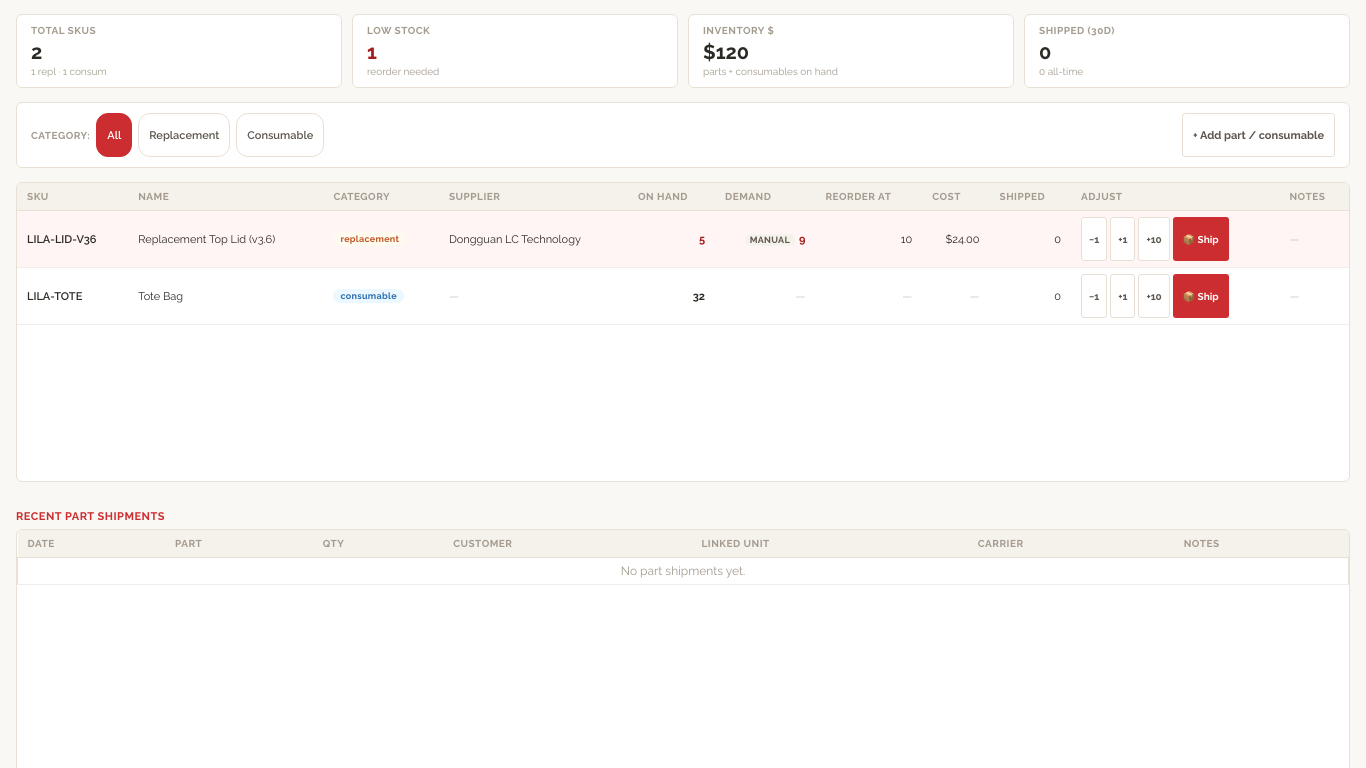
it: Stock › Parts — adding a SKU › refuses a negative on-hand count
This screenshot has width=1366, height=768.
Click the button "+ Add part / consumable" at (1258,135), box [1182,113,1335,157]
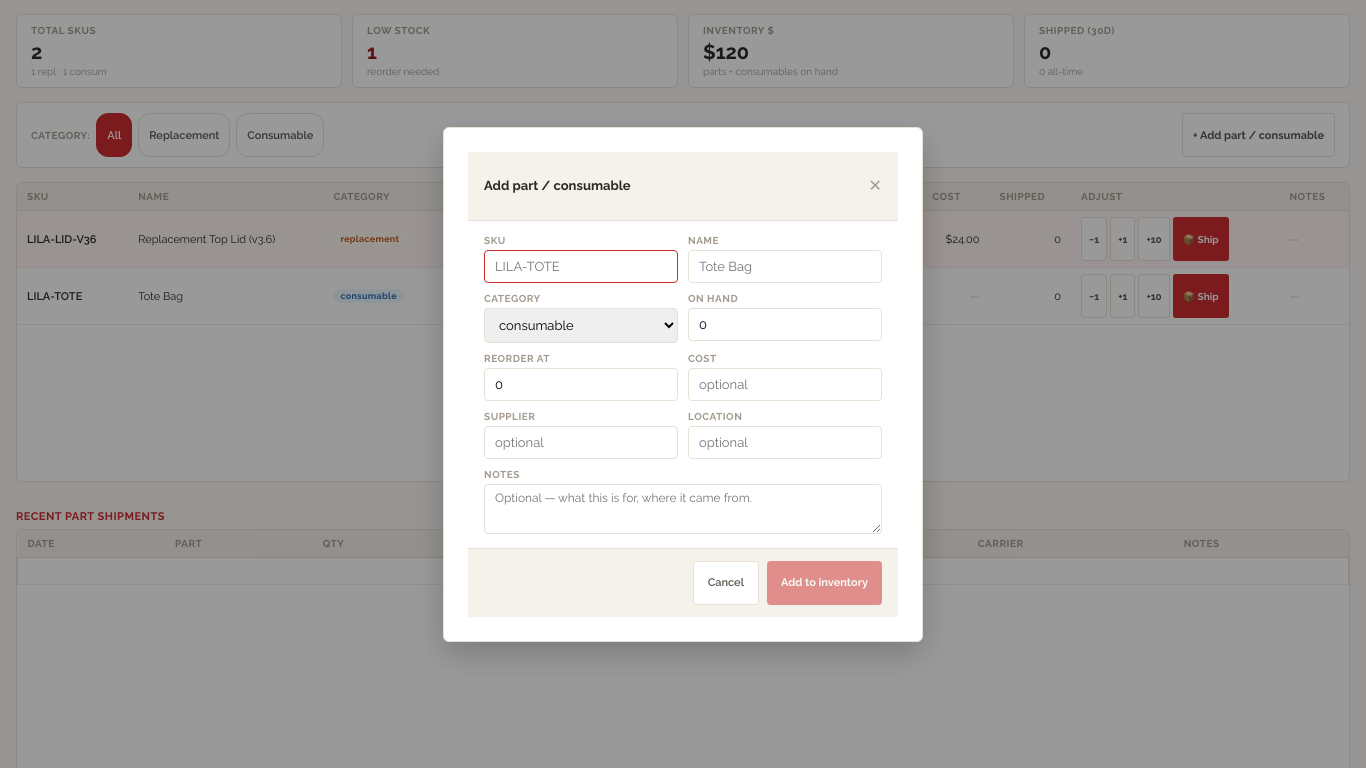
Type "LILA-MAGNET" into the field labelled "SKU" at (581,266), box [484,250,678,282]
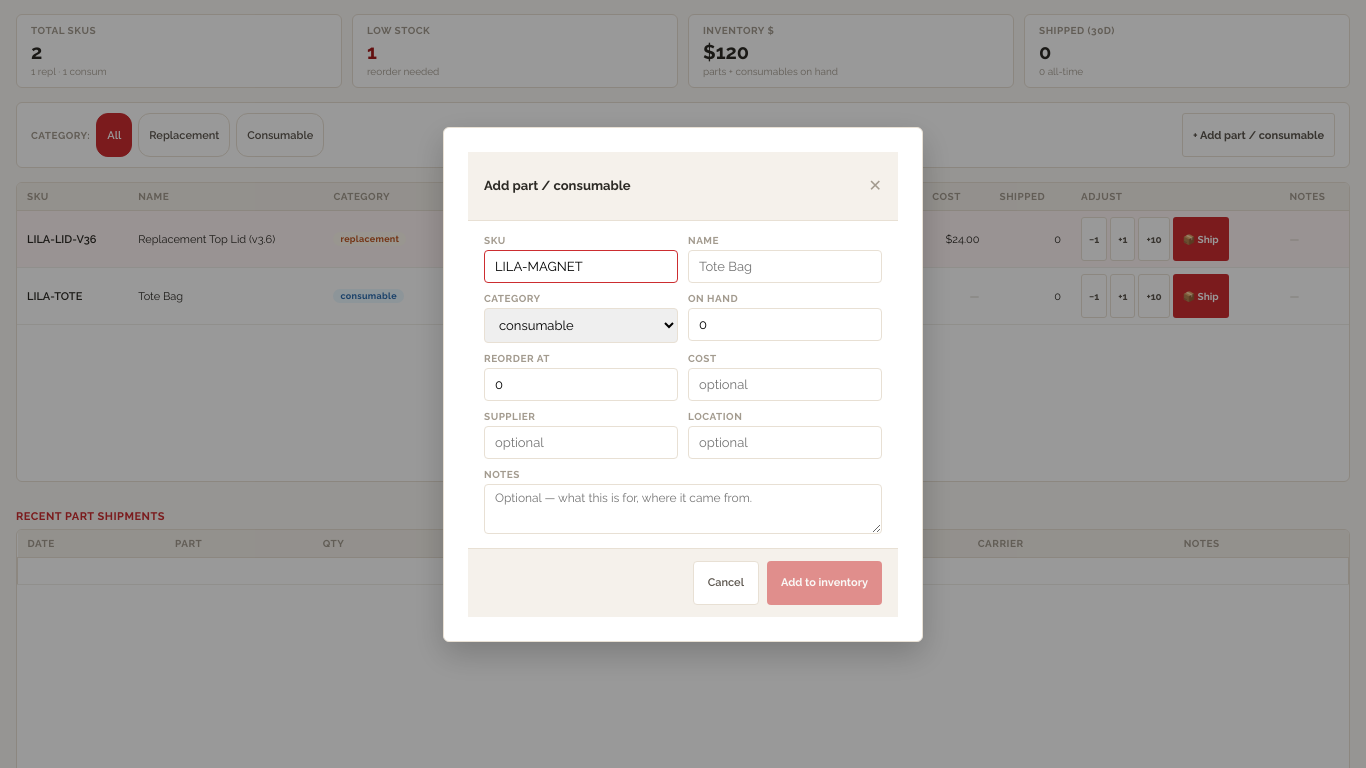
Type "Magnet" into the field labelled "Name" at (785,266), box [688,250,882,282]
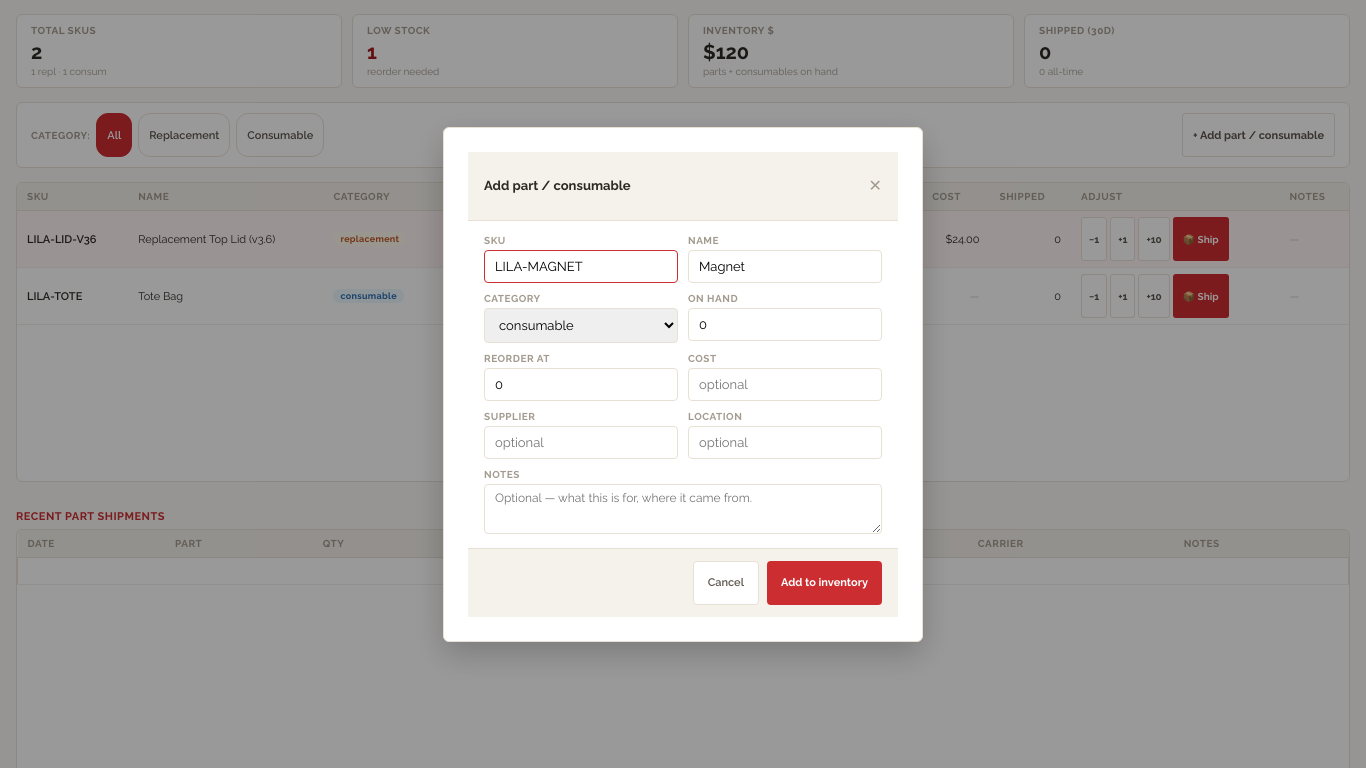
Replace the text in the field labelled "On hand" with "-4" at (785,324), box [688,308,882,340]
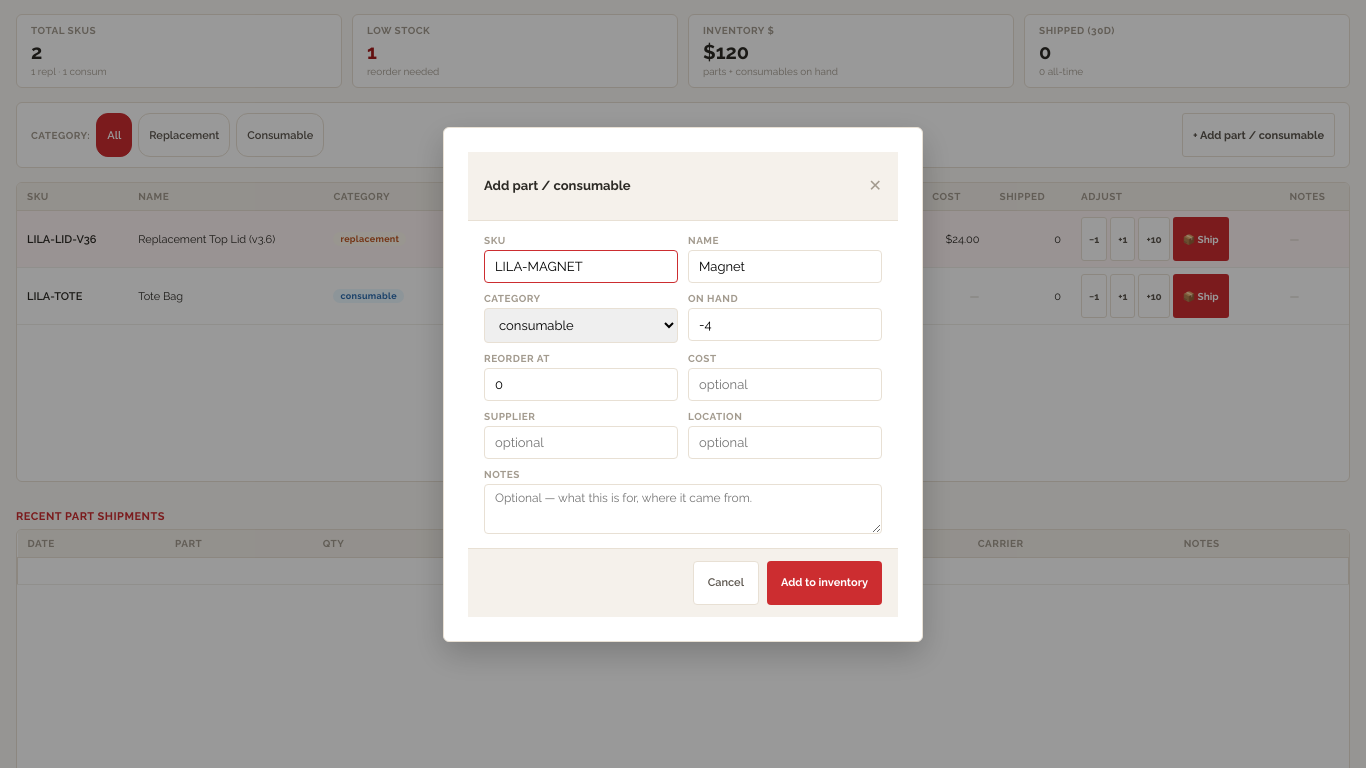
Click the button "Add to inventory" at (824,582), box [767,560,882,604]
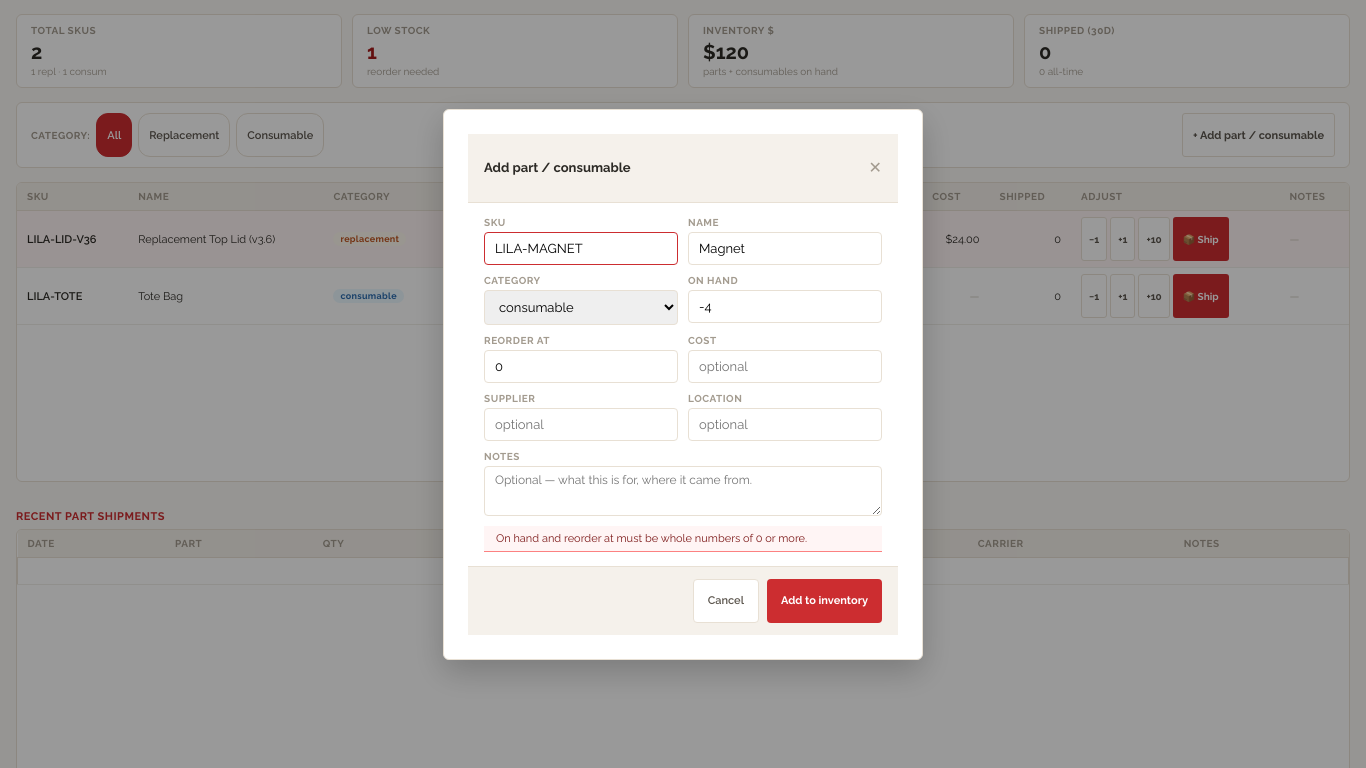
Expected: the text "On hand and reorder at must be whole numbers of 0 or more." is shown, [484,526,882,552]
